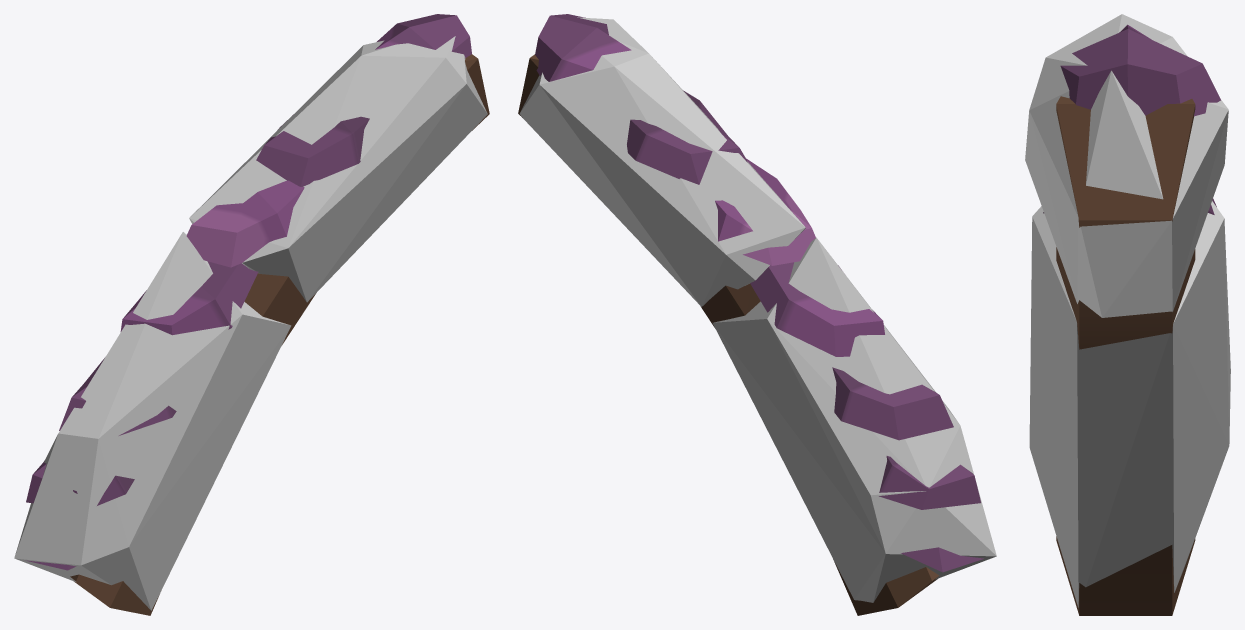
Rendered from SM_Bld_Roof_End_Concave_Small_01.fbx.
3 views of the same model, side by side, from view 1: azimuth 30°, elevation 25°; view 2: azimuth 150°, elevation 25°; view 3: azimuth 270°, elevation 25° (orthographic). The views are drawn at different scales.
Visible parts, largest first — view 1: SM_Bld_Roof_End_Concave_Small_01_ConvexHulls, SM_Bld_Roof_End_Concave_Small_01; view 2: SM_Bld_Roof_End_Concave_Small_01_ConvexHulls, SM_Bld_Roof_End_Concave_Small_01; view 3: SM_Bld_Roof_End_Concave_Small_01_ConvexHulls, SM_Bld_Roof_End_Concave_Small_01.
Part boxes in pixels (x1,y1,x2,y2): SM_Bld_Roof_End_Concave_Small_01_ConvexHulls: (14, 36, 487, 610); SM_Bld_Roof_End_Concave_Small_01: (25, 14, 489, 615); SM_Bld_Roof_End_Concave_Small_01_ConvexHulls: (519, 17, 996, 602); SM_Bld_Roof_End_Concave_Small_01: (518, 14, 983, 615); SM_Bld_Roof_End_Concave_Small_01_ConvexHulls: (1025, 14, 1230, 607); SM_Bld_Roof_End_Concave_Small_01: (1043, 24, 1220, 615).
Size of the model in its own units: 171 by 42.3 by 181.
2 materials, 1 textured.
